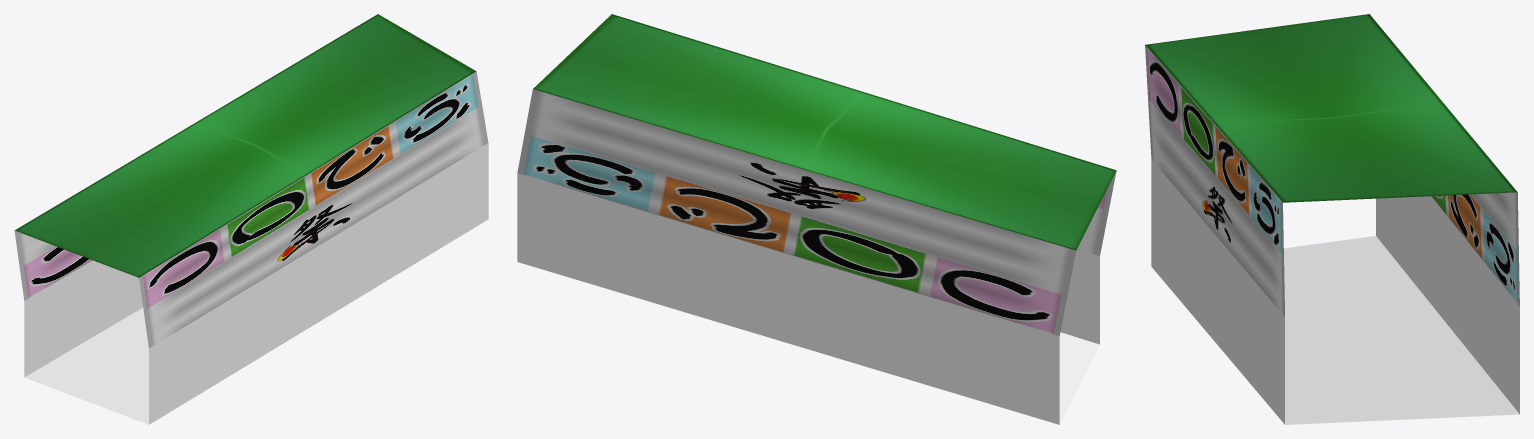
File: CourseWinter_Wall_R_15_9.fbx
3 renders of one model, left to right at view 1: azimuth 30°, elevation 25°; view 2: azimuth 150°, elevation 25°; view 3: azimuth 270°, elevation 25°, orthographic. The views are drawn at different scales.
Parts seen in each view (by area): view 1: polySurface582; view 2: polySurface582; view 3: polySurface582.
Boxes of the visible parts, x1,y1,x2,y2 form: polySurface582: [14, 14, 488, 424]; polySurface582: [517, 14, 1116, 424]; polySurface582: [1145, 14, 1519, 424].
Size of the model in its own units: 6.08 by 2.98 by 3.16.
1 material, 1 textured.
